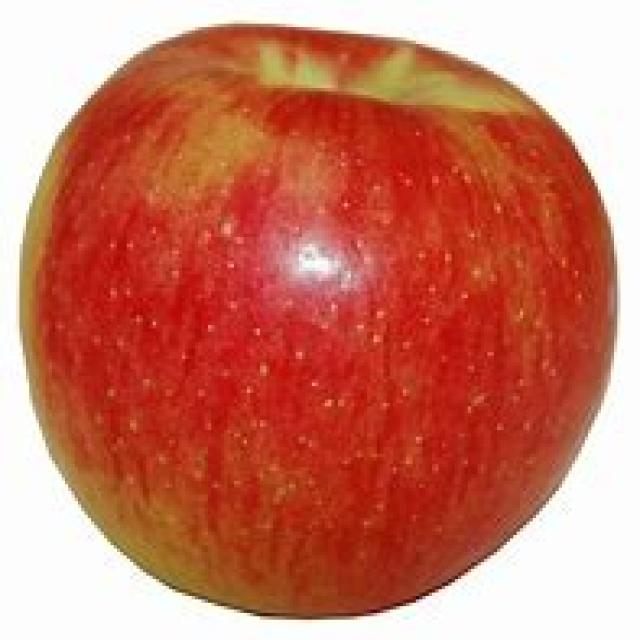apple: (20, 21, 622, 622)
